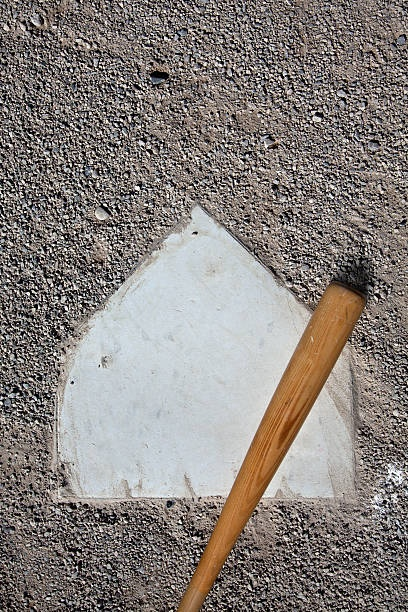bita: (176, 278, 364, 609)
